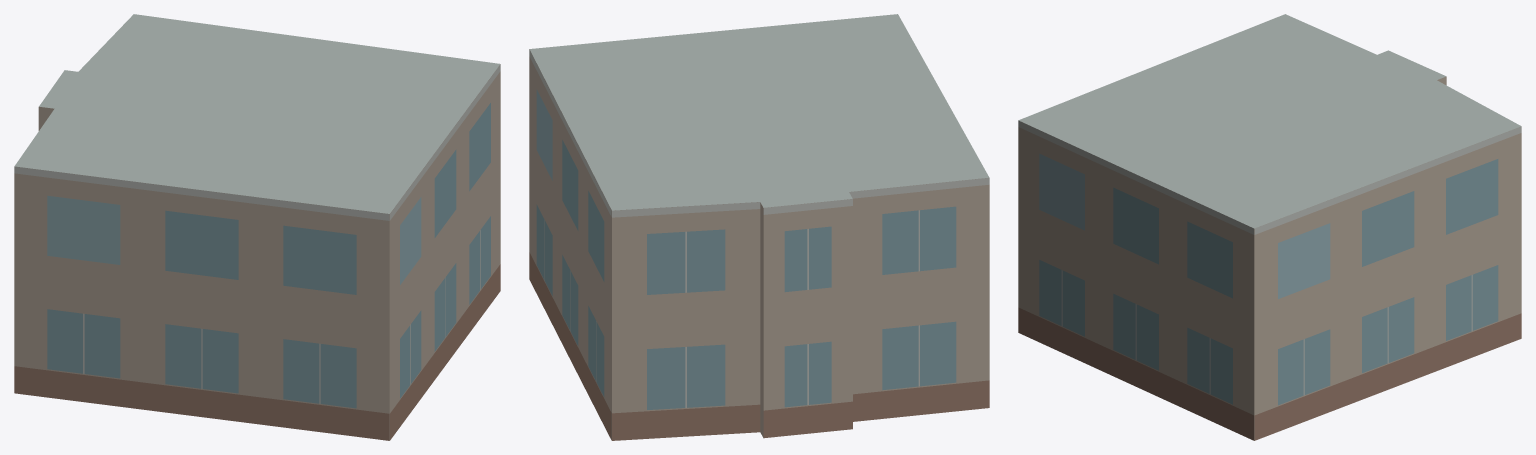
File: survey-upis-32867103.glb
The picture shows the model from 3 angles, left to right: view 1: azimuth 30°, elevation 25°; view 2: azimuth 150°, elevation 25°; view 3: azimuth 270°, elevation 25°; orthographic projection. The views are drawn at different scales.
Parts seen in each view (by area): view 1: survey-upis-32867103.tmp; view 2: survey-upis-32867103.tmp; view 3: survey-upis-32867103.tmp.
Part boxes in pixels (x1,y1,x2,y2): survey-upis-32867103.tmp: [14, 14, 500, 440]; survey-upis-32867103.tmp: [529, 14, 989, 440]; survey-upis-32867103.tmp: [1018, 14, 1521, 440].
Bounding box in the file's own units: 17.24 × 7.95 × 17.09.
